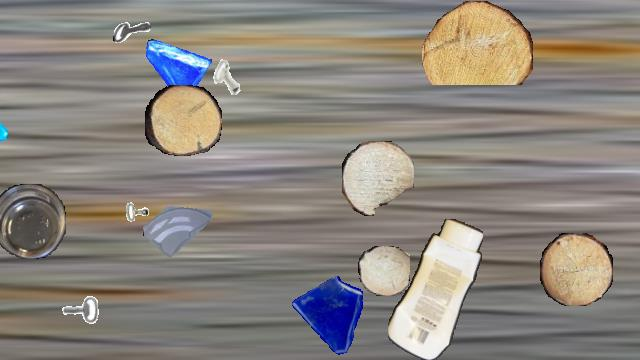glass: (288, 275, 372, 359), (143, 189, 215, 261), (142, 36, 212, 106), (0, 102, 7, 160)
metal: (202, 52, 254, 104), (51, 294, 101, 344), (110, 200, 158, 248), (113, 12, 151, 50)
plastic: (388, 219, 482, 359), (0, 184, 66, 258)
wood: (422, 1, 532, 85), (342, 141, 414, 215), (145, 85, 221, 155), (540, 233, 612, 305), (358, 246, 410, 296)
